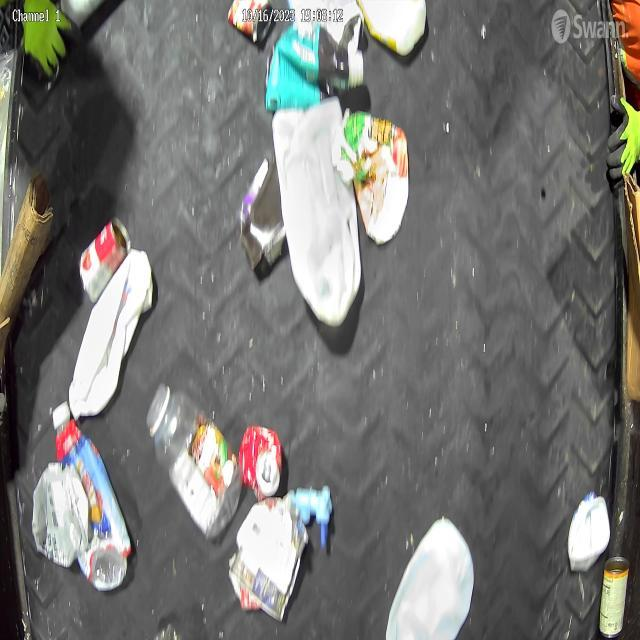can: (78, 214, 132, 306), (237, 426, 284, 504), (596, 554, 631, 640), (226, 0, 274, 47)
milk_jug: (270, 99, 362, 328), (67, 246, 155, 422), (384, 513, 475, 640), (356, 0, 428, 56)
non_white_jug: (264, 20, 364, 110)
